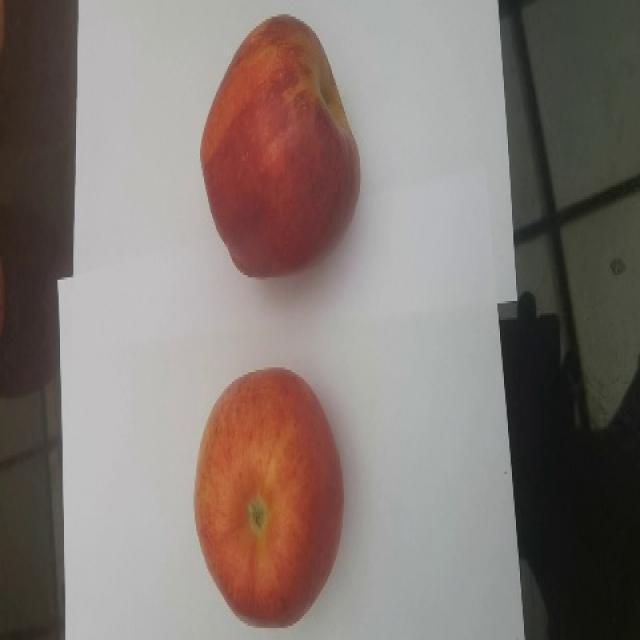Apple: (199, 13, 361, 278), (193, 366, 344, 628)
